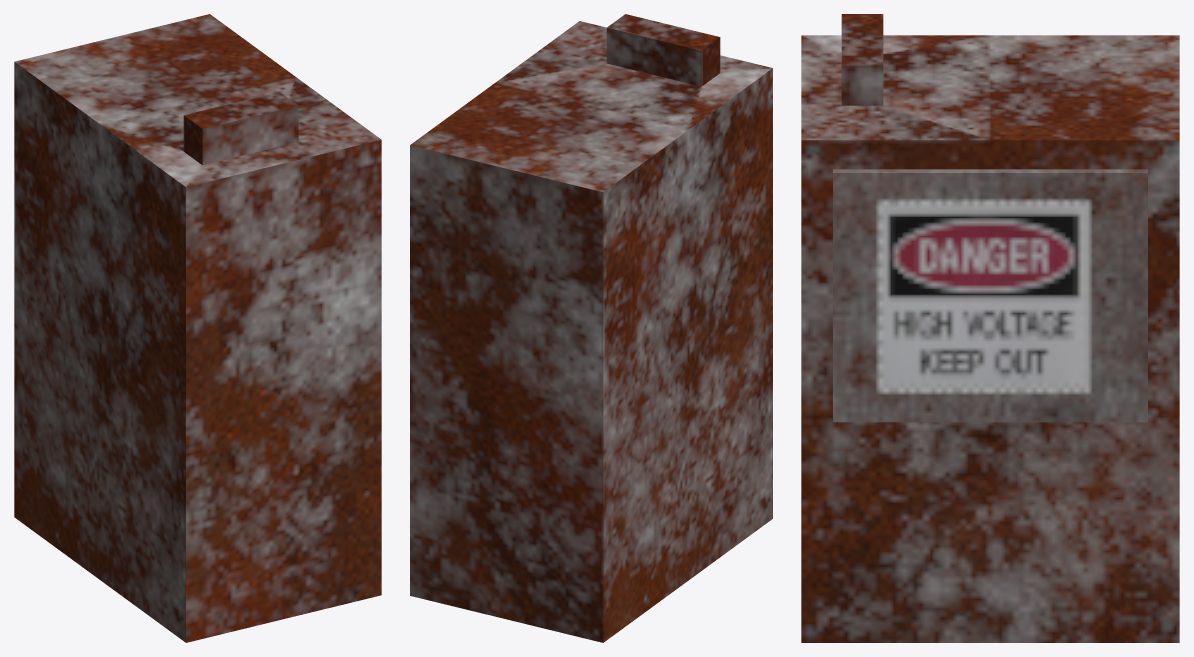
Rendered from ElecDeco1.obj.
The picture shows the model from 3 angles, left to right: view 1: azimuth 30°, elevation 25°; view 2: azimuth 150°, elevation 25°; view 3: azimuth 270°, elevation 25°; orthographic projection. The views are drawn at different scales.
Visible parts, largest first — view 1: Cube; view 2: Cube; view 3: Cube.
Boxes of the visible parts, x1,y1,x2,y2 form: Cube: (14,14,381,642); Cube: (410,14,772,642); Cube: (801,14,1179,642).
Size of the model in its own units: 1.36 by 3.16 by 2.
2 materials, 2 textured.
